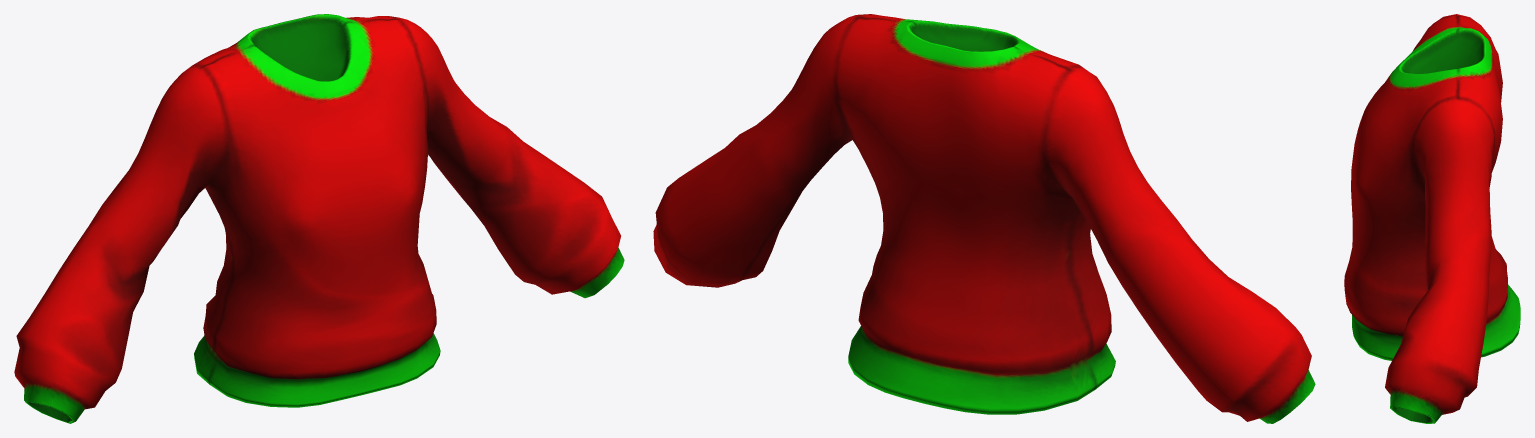
The model's file is Top_Sweater.obj.
3 views of the same model, side by side, from view 1: azimuth 30°, elevation 25°; view 2: azimuth 150°, elevation 25°; view 3: azimuth 270°, elevation 25° (orthographic). The views are drawn at different scales.
Visible parts, largest first — view 1: Top_Sweater_0; view 2: Top_Sweater_0; view 3: Top_Sweater_0.
Part boxes in pixels (box(x1,y1,x2,y2)): Top_Sweater_0: box(14, 14, 624, 423); Top_Sweater_0: box(653, 14, 1315, 423); Top_Sweater_0: box(1344, 14, 1520, 423).
Size of the model in its own units: 0.9096 by 0.4685 by 0.2731.
1 material, 1 textured.
